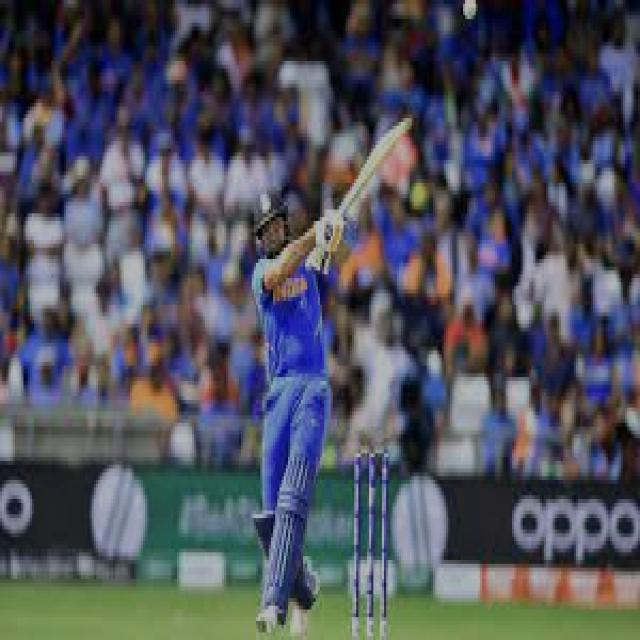toe: (398, 112, 415, 137)
